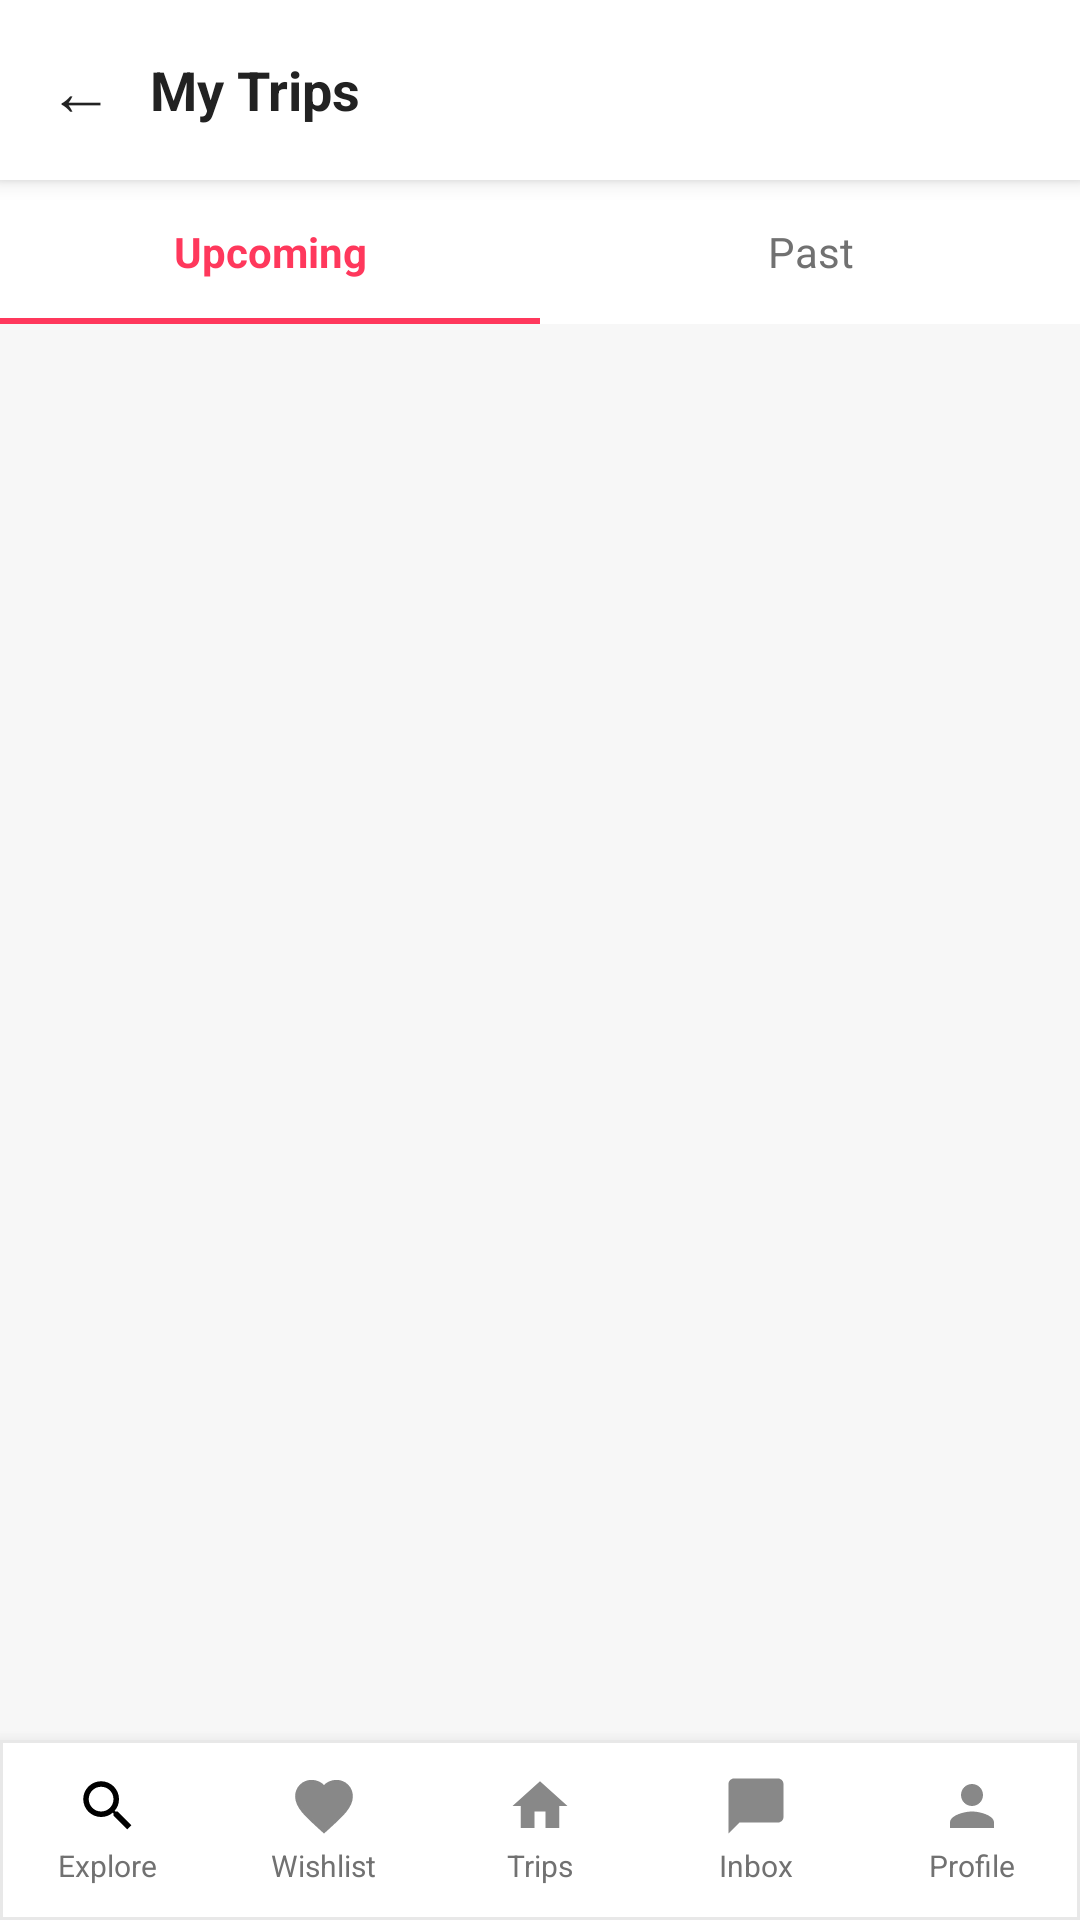

Screen size 1080px x 1920px. Icon name, then its box in pixels as Rect(x1, y1, x2, y2):
search: Rect(83, 1781, 132, 1830)
